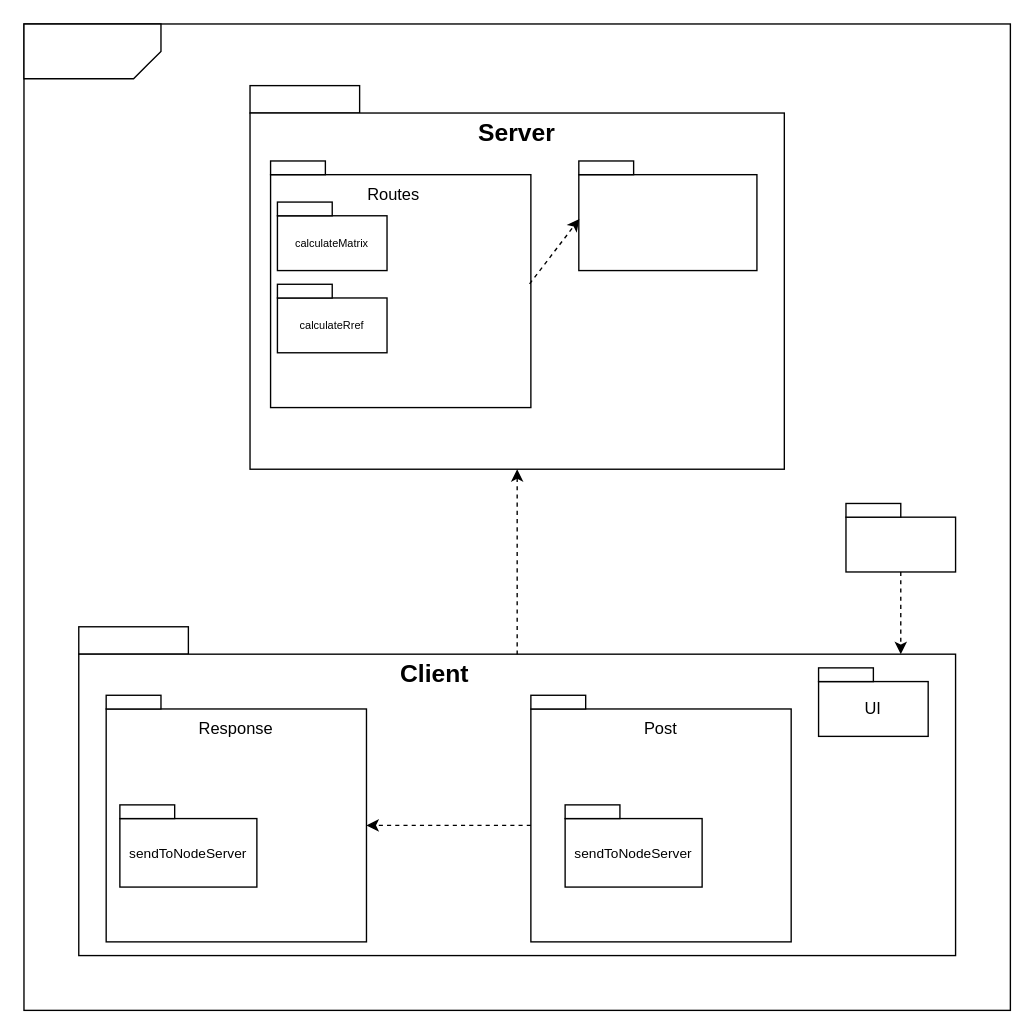
This 1034x1034 diagram has some shape labels left out. The shapes that lost their labels are listed below. From the top down, each one's box as (x1, y1, x2, y2) in pixels, then its label:
(23, 23, 161, 79): QuikMafs
(577, 173, 757, 271): Matrix
(845, 516, 956, 572): User
